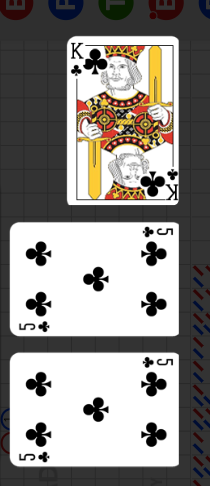5C: (140, 225, 175, 239), (18, 449, 52, 463)
KC: (69, 40, 88, 81)
